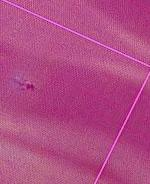knot: (16, 77, 36, 95)
